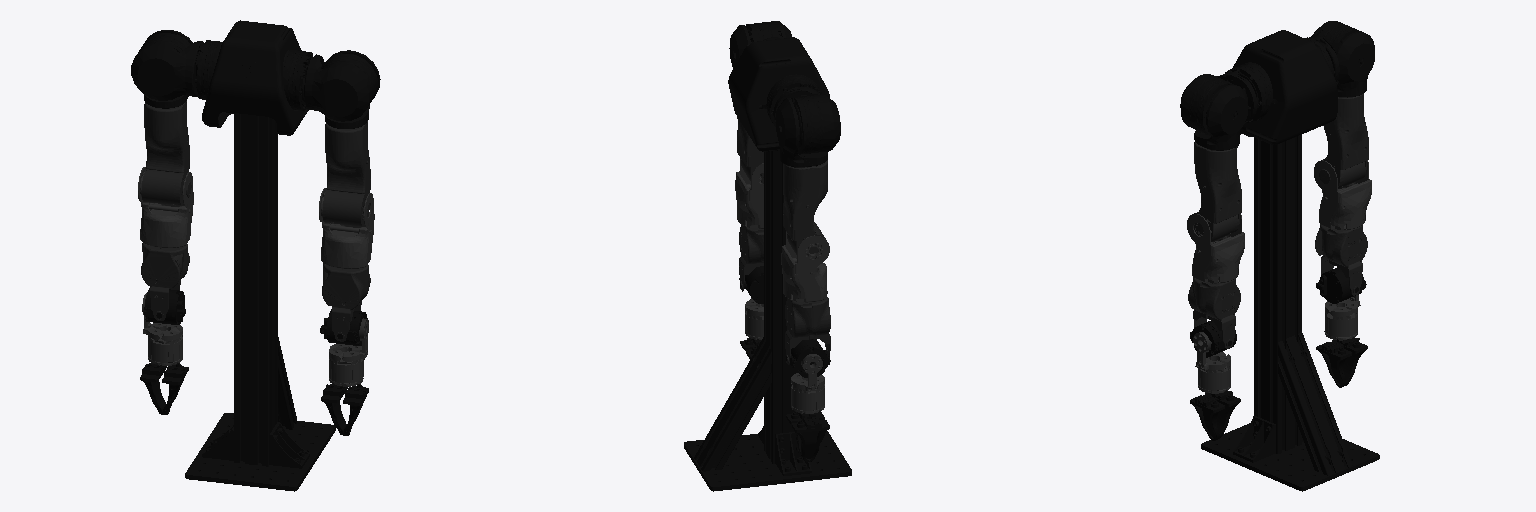
--- What the picture shows (computed from the rendered views, not written in the file) ---
Views: 3 orthographic renders of the robot side by side, from view 1: azimuth 30°, elevation 25°; view 2: azimuth 150°, elevation 25°; view 3: azimuth 270°, elevation 25°.
Robot: openarm — 28 links, 27 joints (14 revolute, 4 prismatic, 9 fixed); root link world; default pose: every joint at zero.
Visible links, largest first — view 1: openarm_body_link0, openarm_right_link3, openarm_left_link3, openarm_left_link1, openarm_right_link1, openarm_left_link4, openarm_right_link4, openarm_left_link5, openarm_right_link5, openarm_left_link7, openarm_right_link7, openarm_left_link0 (+8 smaller); view 2: openarm_body_link0, openarm_right_link3, openarm_right_link1, openarm_right_link4, openarm_right_link5, openarm_right_link2, openarm_right_link7, openarm_left_link4, openarm_left_link5, openarm_right_left_finger, openarm_left_link3, openarm_right_link0 (+5 smaller); view 3: openarm_body_link0, openarm_left_link3, openarm_right_link3, openarm_left_link4, openarm_right_link4, openarm_left_link2, openarm_left_link5, openarm_right_link5, openarm_left_link1, openarm_right_link2, openarm_left_link7, openarm_right_link7 (+8 smaller).
Boxes of the visible links, left/top/right/bottom form: openarm_body_link0: left=185, top=20, right=335, bottom=491; openarm_right_link3: left=140, top=101, right=191, bottom=205; openarm_left_link3: left=321, top=121, right=370, bottom=226; openarm_left_link1: left=304, top=53, right=377, bottom=121; openarm_right_link1: left=131, top=33, right=203, bottom=100; openarm_left_link4: left=319, top=188, right=374, bottom=269; openarm_right_link4: left=138, top=167, right=193, bottom=248; openarm_left_link5: left=322, top=263, right=370, bottom=341; openarm_right_link5: left=141, top=243, right=189, bottom=320; openarm_left_link7: left=329, top=318, right=368, bottom=386; openarm_right_link7: left=142, top=293, right=182, bottom=365; openarm_left_link0: left=269, top=50, right=312, bottom=117; openarm_body_link0: left=684, top=37, right=851, bottom=491; openarm_right_link3: left=783, top=160, right=827, bottom=254; openarm_right_link1: left=773, top=87, right=840, bottom=154; openarm_right_link4: left=781, top=232, right=829, bottom=302; openarm_right_link5: left=785, top=297, right=830, bottom=364; openarm_right_link2: left=775, top=98, right=827, bottom=166; openarm_right_link7: left=791, top=354, right=824, bottom=413; openarm_left_link4: left=735, top=158, right=763, bottom=228; openarm_left_link5: left=739, top=225, right=763, bottom=291; openarm_right_left_finger: left=792, top=417, right=829, bottom=461; openarm_left_link3: left=737, top=117, right=763, bottom=183; openarm_right_link0: left=763, top=74, right=821, bottom=126; openarm_body_link0: left=1201, top=30, right=1379, bottom=491; openarm_left_link3: left=1194, top=142, right=1241, bottom=241; openarm_right_link3: left=1319, top=94, right=1368, bottom=188; openarm_left_link4: left=1187, top=214, right=1244, bottom=283; openarm_right_link4: left=1314, top=160, right=1371, bottom=229; openarm_left_link2: left=1194, top=85, right=1248, bottom=150; openarm_left_link5: left=1188, top=277, right=1240, bottom=348; openarm_right_link5: left=1315, top=224, right=1367, bottom=295; openarm_left_link1: left=1180, top=72, right=1257, bottom=135; openarm_right_link2: left=1336, top=31, right=1374, bottom=97; openarm_left_link7: left=1193, top=332, right=1230, bottom=393; openarm_right_link7: left=1324, top=295, right=1360, bottom=340.
Size in the robot's own frame: 0.3418 by 0.3422 by 0.7731 metres.
Meshes: 11 distinct files referenced, 21 mesh visuals loaded (10 binary STL); not drawn: 2 (reference not matched to a file when rendering).

The robot description file, URDF, robot "openarm":
<?xml version="1.0" ?>
<!-- =================================================================================== -->
<!-- |    This document was autogenerated by xacro from v10.urdf.xacro                 | -->
<!-- |    EDITING THIS FILE BY HAND IS NOT RECOMMENDED                                 | -->
<!-- =================================================================================== -->
<robot name="openarm">
  <!--
    DEPRECATION NOTICE
    argument arm_type is no longer supported and will be removed in the future.
    This argument is ignored.
  -->
  <!-- Should the robot be spawned in Gazebo with effort interfaces?" -->
  <!-- <xacro:arg name="gazebo_effort" default="false" /> -->
  <!-- ========================================================== -->
  <!-- Adds the required tags to simulate one joint in gazebo     -->
  <!--                                                            -->
  <!-- joint - Name of the openarm joint to simulate                  -->
  <!-- transmission - type of the transmission of the joint       -->
  <!-- ========================================================== -->
  <!-- <xacro:macro name="gazebo-joint" params="joint transmission:=hardware_interface/EffortJointInterface">
    <gazebo reference="${joint}">
      <provideFeedback>true</provideFeedback>
    </gazebo>
    <transmission name="${joint}_transmission">
      <type>transmission_interface/SimpleTransmission</type>
      <joint name="${joint}">
        <hardwareInterface>${transmission}</hardwareInterface>
      </joint>
      <actuator name="${joint}_motor">
        <hardwareInterface>${transmission}</hardwareInterface>
      </actuator>
    </transmission>
  </xacro:macro> -->
  <!-- <xacro:macro name="gazebo-friction" params="link mu">
    <gazebo reference="${link}">
      <collision>
        <max_contacts>10</max_contacts>
        <surface>
          <contact>
            <ode>
              <max_vel>0</max_vel>
              <min_depth>0.001</min_depth>
            </ode>
          </contact>
          <friction>
            <ode>
              <mu>${mu}</mu>
              <mu2>${mu}</mu2>
            </ode>
          </friction>
          <bounce/>
        </surface>
      </collision>
    </gazebo>
  </xacro:macro> -->
  <!-- ========================================================== -->
  <!-- Adds the required tags to simulate one joint in gazebo     -->
  <!--                                                            -->
  <!-- joint - Name of the openarm joint to simulate                  -->
  <!-- transmission - type of the transmission of the joint       -->
  <!-- ========================================================== -->
  <!-- <xacro:macro name="gazebo-joint" params="joint transmission:=hardware_interface/EffortJointInterface">
    <gazebo reference="${joint}">
      <provideFeedback>true</provideFeedback>
    </gazebo>
    <transmission name="${joint}_transmission">
      <type>transmission_interface/SimpleTransmission</type>
      <joint name="${joint}">
        <hardwareInterface>${transmission}</hardwareInterface>
      </joint>
      <actuator name="${joint}_motor">
        <hardwareInterface>${transmission}</hardwareInterface>
      </actuator>
    </transmission>
  </xacro:macro> -->
  <!-- <xacro:macro name="gazebo-friction" params="link mu">
    <gazebo reference="${link}">
      <collision>
        <max_contacts>10</max_contacts>
        <surface>
          <contact>
            <ode>
              <max_vel>0</max_vel>
              <min_depth>0.001</min_depth>
            </ode>
          </contact>
          <friction>
            <ode>
              <mu>${mu}</mu>
              <mu2>${mu}</mu2>
            </ode>
          </friction>
          <bounce/>
        </surface>
      </collision>
    </gazebo>
  </xacro:macro> -->
  <!-- arm_type: Namespace of the robot arm. Serves to differentiate between arms in case of multiple instances. -->
  <!-- joint_limits: description of the joint limits that comes from a YAML file. Example definition: ${xacro.load_yaml('$(find openarm_description)/robots/fr3/joint_limits.yaml')} -->
  <!-- kinematics: description of the kinematics that comes from a YAML file. Example definition: ${xacro.load_yaml('$(find openarm_description)/robots/fr3/kinematics.yaml')} -->
  <!-- inertials: description of the inertials that comes from a YAML file. Example definition: ${xacro.load_yaml('$(find openarm_description)/robots/fr3/inertials.yaml')} -->
  <!-- Is the robot being simulated in gazebo? -->
  <!-- <xacro:arg name="gazebo" default="false" /> -->
  <material name="light_gray">
    <color rgba="0.4 0.4 0.4 1.0"/>
  </material>
  <material name="gray">
    <color rgba="0.2117647058823529 0.2117647058823529 0.2117647058823529 1.0"/>
  </material>
  <material name="dark_gray">
    <color rgba="0.1607843137254902 0.1607843137254902 0.1607843137254902 1.0"/>
  </material>
  <material name="light_black">
    <color rgba="0.08 0.08 0.08 1.0"/>
  </material>
  <material name="black">
    <color rgba="0.0 0.0 0.0 1.0"/>
  </material>
  <link name="world"/>
  <joint name="openarm_body_world_joint" type="fixed">
    <parent link="world"/>
    <child link="openarm_body_link0"/>
    <origin rpy="0 0 -2.36" xyz="0 0 0"/>
  </joint>
  <link name="openarm_body_link0">
    <visual name="openarm_body_link0_visual">
      <origin rpy="0.0 0.0 0.0" xyz="0.0 0.0 0.0"/>
      <geometry>
        <mesh filename="./meshes/body/v10/visual/body_link0.stl" scale="0.001 0.001 0.001"/>
      </geometry>
      <material name="light_black"/>
    </visual>
    <collision name="openarm_body_link0_collision">
      <origin rpy="0.0 0.0 0.0" xyz="0.0 0.0 0.0"/>
      <geometry>
      </geometry>
    </collision>
    <inertial>
      <origin rpy="0.0 0.0 0.0" xyz="0.0 0.0 0.0"/>
      <mass value="13.89"/>
      <inertia ixx="1.653" ixy="0.0" ixz="0.0" iyy="1.653" iyz="0.0" izz="0.051"/>
    </inertial>
  </link>
  <!-- Define a property that defaults to 'arm_prefix_arm_type' concatenated with an underscore if 'no_prefix' is not set -->
  <!-- <xacro:if value="${gazebo}">
      <xacro:property name="connected_to" value="" />
    </xacro:if> -->
  <!-- <link name="${connected_to}">
      </link> -->
  <joint name="openarm_left_openarm_body_link0_joint" type="fixed">
    <parent link="openarm_body_link0"/>
    <child link="openarm_left_link0"/>
    <origin rpy="-1.5708 0 0" xyz="0.0 0.031 0.698"/>
  </joint>
  <link name="openarm_left_link0">
    <visual name="openarm_left_link0_visual">
      <origin rpy="0.0 0.0 0.0" xyz="0.0 0.0 0.0"/>
      <geometry>
        <mesh filename="./meshes/arm/v10/visual/link0.stl" scale="0.001 -0.001 0.001"/>
      </geometry>
      <material name="light_black"/>
    </visual>
    <collision name="openarm_left_link0_collision">
      <origin rpy="0.0 0.0 0.0" xyz="0.0 0.0 0.0"/>
      <geometry>
        

      </geometry>
    </collision>
    <inertial>
      <origin rpy="0.0 0.0 0.0" xyz="-0.0009483362816297526 0.0001580207020448382 0.03076860287587199"/>
      <mass value="1.1432284943239561"/>
      <inertia ixx="0.001128" ixy="-4e-06" ixz="-3.3e-05" iyy="0.000962" iyz="-7e-06" izz="0.00147"/>
    </inertial>
  </link>
  <link name="openarm_left_link1">
    <visual name="openarm_left_link1_visual">
      <origin rpy="0.0 0.0 0.0" xyz="-0.0 0.0 -0.0625"/>
      <geometry>
        <mesh filename="./meshes/arm/v10/visual/link1.stl" scale="0.001 -0.001 0.001"/>
      </geometry>
      <material name="light_black"/>
    </visual>
    <collision name="openarm_left_link1_collision">
      <origin rpy="0.0 0.0 0.0" xyz="-0.0 0.0 -0.0625"/>
      <geometry>
        
        
      </geometry>
    </collision>
    <inertial>
      <origin rpy="0.0 0.0 0.0" xyz="0.0011467657911800769 3.319987657026362e-05 0.05395284380736254"/>
      <mass value="1.1416684646202298"/>
      <inertia ixx="0.001567" ixy="-1e-06" ixz="-2.9e-05" iyy="0.001273" iyz="-0.0" izz="0.001016"/>
    </inertial>
  </link>
  <joint name="L_J1" type="revolute">
    <origin rpy="0 0 0" xyz="0.0 0.0 0.0625"/>
    <parent link="openarm_left_link0"/>
    <child link="openarm_left_link1"/>
    <axis xyz="0 0 1"/>
    <limit effort="54" lower="-3.490659" upper="1.3962629999999998" velocity="45"/>
  </joint>
  <link name="openarm_left_link2">
    <visual name="openarm_left_link2_visual">
      <origin rpy="0.0 0.0 0.0" xyz="0.0301 0.0 -0.1225"/>
      <geometry>
        <mesh filename="./meshes/arm/v10/visual/link2.stl" scale="0.001 -0.001 0.001"/>
      </geometry>
      <material name="light_black"/>
    </visual>
    <collision name="openarm_left_link2_collision">
      <origin rpy="0.0 0.0 0.0" xyz="0.0301 0.0 -0.1225"/>
      <geometry>
        
        
      </geometry>
    </collision>
    <inertial>
      <origin rpy="0.0 0.0 0.0" xyz="0.00839629182351943 -2.0145102027597523e-08 0.03256649300522363"/>
      <mass value="0.2775092746011571"/>
      <inertia ixx="0.000359" ixy="-0.0" ixz="-0.000109" iyy="0.000376" iyz="0.0" izz="0.000232"/>
    </inertial>
  </link>
  <joint name="L_J2" type="revolute">
    <origin rpy="-1.57079632679 0 0" xyz="-0.0301 0.0 0.06"/>
    <parent link="openarm_left_link1"/>
    <child link="openarm_left_link2"/>
    <axis xyz="-1 0 0"/>
    <limit effort="54" lower="-3.3161253267948965" upper="0.17453267320510335" velocity="45"/>
  </joint>
  <link name="openarm_left_link3">
    <visual name="openarm_left_link3_visual">
      <origin rpy="0.0 0.0 0.0" xyz="-0.0 -0.0 -0.18875"/>
      <geometry>
        <mesh filename="./meshes/arm/v10/visual/link3.stl" scale="0.001 -0.001 0.001"/>
      </geometry>
      <material name="dark_gray"/>
    </visual>
    <collision name="openarm_left_link3_collision">
      <origin rpy="0.0 0.0 0.0" xyz="-0.0 -0.0 -0.18875"/>
      <geometry>
        
        
      </geometry>
    </collision>
    <inertial>
      <origin rpy="0.0 0.0 0.0" xyz="-0.002104752099628911 0.0005549085042607548 0.08847470545721961"/>
      <mass value="1.073863338202347"/>
      <inertia ixx="0.004372" ixy="-0.0" ixz="1.1e-05" iyy="0.004319" iyz="-3.6e-05" izz="0.000661"/>
    </inertial>
  </link>
  <joint name="L_J3" type="revolute">
    <origin rpy="0 0 0" xyz="0.0301 0.0 0.06625"/>
    <parent link="openarm_left_link2"/>
    <child link="openarm_left_link3"/>
    <axis xyz="0 0 1"/>
    <limit effort="28" lower="-1.570796" upper="1.570796" velocity="8"/>
  </joint>
  <link name="openarm_left_link4">
    <visual name="openarm_left_link4_visual">
      <origin rpy="0.0 0.0 0.0" xyz="0.0 -0.0315 -0.3425"/>
      <geometry>
        <mesh filename="./meshes/arm/v10/visual/link4.stl" scale="0.001 0.001 0.001"/>
      </geometry>
      <material name="gray"/>
    </visual>
    <collision name="openarm_left_link4_collision">
      <origin rpy="0.0 0.0 0.0" xyz="0.0 -0.0315 -0.3425"/>
      <geometry>
        
        
      </geometry>
    </collision>
    <inertial>
      <origin rpy="0.0 0.0 0.0" xyz="-0.0029006831074562967 -0.03030575826634669 0.06339637422196209"/>
      <mass value="1.3699337287025453"/>
      <inertia ixx="0.001577" ixy="-5e-06" ixz="-7.5e-05" iyy="0.001346" iyz="0.000108" izz="0.001104"/>
    </inertial>
  </link>
  <joint name="L_J4" type="revolute">
    <origin rpy="0 0 0" xyz="-0.0 0.0315 0.15375"/>
    <parent link="openarm_left_link3"/>
    <child link="openarm_left_link4"/>
    <axis xyz="0 1 0"/>
    <limit effort="28" lower="0.0" upper="2.443461" velocity="8"/>
  </joint>
  <link name="openarm_left_link5">
    <visual name="openarm_left_link5_visual">
      <origin rpy="0.0 0.0 0.0" xyz="-0.0 -0.0 -0.438"/>
      <geometry>
        <mesh filename="./meshes/arm/v10/visual/link5.stl" scale="0.001 -0.001 0.001"/>
      </geometry>
      <material name="dark_gray"/>
    </visual>
    <collision name="openarm_left_link5_collision">
      <origin rpy="0.0 0.0 0.0" xyz="-0.0 -0.0 -0.438"/>
      <geometry>
        
        
      </geometry>
    </collision>
    <inertial>
      <origin rpy="0.0 0.0 0.0" xyz="-0.003049665024221911 0.0008866902457326625 0.043079803024980934"/>
      <mass value="0.5506588026168502"/>
      <inertia ixx="0.000423" ixy="-8e-06" ixz="6e-06" iyy="0.000445" iyz="-6e-06" izz="0.000324"/>
    </inertial>
  </link>
  <joint name="L_J5" type="revolute">
    <origin rpy="0 0 0" xyz="0.0 -0.0315 0.0955"/>
    <parent link="openarm_left_link4"/>
    <child link="openarm_left_link5"/>
    <axis xyz="0 0 1"/>
    <limit effort="10" lower="-1.570796" upper="1.570796" velocity="30"/>
  </joint>
  <link name="openarm_left_link6">
    <visual name="openarm_left_link6_visual">
      <origin rpy="0.0 0.0 0.0" xyz="-0.0375 -0.0 -0.5585"/>
      <geometry>
        <mesh filename="./meshes/arm/v10/visual/link6.stl" scale="0.001 -0.001 0.001"/>
      </geometry>
      <material name="light_black"/>
    </visual>
    <collision name="openarm_left_link6_collision">
      <origin rpy="0.0 0.0 0.0" xyz="-0.0375 -0.0 -0.5585"/>
      <geometry>
        
        
      </geometry>
    </collision>
    <inertial>
      <origin rpy="0.0 0.0 0.0" xyz="-0.037136587005447405 0.00033230528343419053 -9.498374522309838e-05"/>
      <mass value="0.3540202773187987"/>
      <inertia ixx="0.000143" ixy="4e-06" ixz="0.0" iyy="0.000157" iyz="1e-06" izz="0.000159"/>
    </inertial>
  </link>
  <joint name="L_J6" type="revolute">
    <origin rpy="0 0 0" xyz="0.0375 0.0 0.1205"/>
    <parent link="openarm_left_link5"/>
    <child link="openarm_left_link6"/>
    <axis xyz="1 0 0"/>
    <limit effort="10" lower="-0.785398" upper="0.785398" velocity="30"/>
  </joint>
  <link name="openarm_left_link7">
    <visual name="openarm_left_link7_visual">
      <origin rpy="0.0 0.0 0.0" xyz="0.0 -0.0 -0.5585"/>
      <geometry>
        <mesh filename="./meshes/arm/v10/visual/link7.stl" scale="0.001 -0.001 0.001"/>
      </geometry>
      <material name="gray"/>
    </visual>
    <collision name="openarm_left_link7_collision">
      <origin rpy="0.0 0.0 0.0" xyz="0.0 -0.0 -0.5585"/>
      <geometry>
        
        
      </geometry>
    </collision>
    <inertial>
      <origin rpy="0.0 0.0 0.0" xyz="6.875510271106056e-05 -0.01766175250761268 0.06651945409987448"/>
      <mass value="0.5499771327380578"/>
      <inertia ixx="0.000639" ixy="0.0" ixz="-0.0" iyy="0.000497" iyz="8.9e-05" izz="0.000342"/>
    </inertial>
  </link>
  <joint name="L_J7" type="revolute">
    <origin rpy="0 0 0" xyz="-0.0375 0.0 0.0"/>
    <parent link="openarm_left_link6"/>
    <child link="openarm_left_link7"/>
    <axis xyz="0 -1 0"/>
    <limit effort="10" lower="-1.570796" upper="1.570796" velocity="30"/>
  </joint>
  <link name="openarm_left_link8"/>
  <joint name="L_J8" type="fixed">
    <origin rpy="0 0 0" xyz="1e-06 0.0205 0.0"/>
    <parent link="openarm_left_link7"/>
    <child link="openarm_left_link8"/>
  </joint>
  <!-- Define a property that defaults to 'arm_prefix_arm_type' concatenated with an underscore if 'no_prefix' is not set -->
  <!-- <xacro:if value="${gazebo}">
      <xacro:property name="connected_to" value="" />
    </xacro:if> -->
  <!-- <link name="${connected_to}">
      </link> -->
  <joint name="openarm_right_openarm_body_link0_joint" type="fixed">
    <parent link="openarm_body_link0"/>
    <child link="openarm_right_link0"/>
    <origin rpy="1.5708 0 0" xyz="0.0 -0.031 0.698"/>
  </joint>
  <link name="openarm_right_link0">
    <visual name="openarm_right_link0_visual">
      <origin rpy="0.0 0.0 0.0" xyz="0.0 0.0 0.0"/>
      <geometry>
        <mesh filename="./meshes/arm/v10/visual/link0.stl" scale="0.001 0.001 0.001"/>
      </geometry>
      <material name="light_black"/>
    </visual>
    <collision name="openarm_right_link0_collision">
      <origin rpy="0.0 0.0 0.0" xyz="0.0 0.0 0.0"/>
      <geometry>
        
        
      </geometry>
    </collision>
    <inertial>
      <origin rpy="0.0 0.0 0.0" xyz="-0.0009483362816297526 0.0001580207020448382 0.03076860287587199"/>
      <mass value="1.1432284943239561"/>
      <inertia ixx="0.001128" ixy="-4e-06" ixz="-3.3e-05" iyy="0.000962" iyz="-7e-06" izz="0.00147"/>
    </inertial>
  </link>
  <link name="openarm_right_link1">
    <visual name="openarm_right_link1_visual">
      <origin rpy="0.0 0.0 0.0" xyz="-0.0 0.0 -0.0625"/>
      <geometry>
        <mesh filename="./meshes/arm/v10/visual/link1.stl" scale="0.001 0.001 0.001"/>
      </geometry>
      <material name="light_black"/>
    </visual>
    <collision name="openarm_right_link1_collision">
      <origin rpy="0.0 0.0 0.0" xyz="-0.0 0.0 -0.0625"/>
      <geometry>
        
        
      </geometry>
    </collision>
    <inertial>
      <origin rpy="0.0 0.0 0.0" xyz="0.0011467657911800769 3.319987657026362e-05 0.05395284380736254"/>
      <mass value="1.1416684646202298"/>
      <inertia ixx="0.001567" ixy="-1e-06" ixz="-2.9e-05" iyy="0.001273" iyz="-0.0" izz="0.001016"/>
    </inertial>
  </link>
  <joint name="R_J1" type="revolute">
    <origin rpy="0 0 0" xyz="0.0 0.0 0.0625"/>
    <parent link="openarm_right_link0"/>
    <child link="openarm_right_link1"/>
    <axis xyz="0 0 1"/>
    <limit effort="54" lower="-1.396263" upper="3.490659" velocity="45"/>
  </joint>
  <link name="openarm_right_link2">
    <visual name="openarm_right_link2_visual">
      <origin rpy="0.0 0.0 0.0" xyz="0.0301 0.0 -0.1225"/>
      <geometry>
        <mesh filename="./meshes/arm/v10/visual/link2.stl" scale="0.001 0.001 0.001"/>
      </geometry>
      <material name="light_black"/>
    </visual>
    <collision name="openarm_right_link2_collision">
      <origin rpy="0.0 0.0 0.0" xyz="0.0301 0.0 -0.1225"/>
      <geometry>
        
        
      </geometry>
    </collision>
    <inertial>
      <origin rpy="0.0 0.0 0.0" xyz="0.00839629182351943 -2.0145102027597523e-08 0.03256649300522363"/>
      <mass value="0.2775092746011571"/>
      <inertia ixx="0.000359" ixy="-0.0" ixz="-0.000109" iyy="0.000376" iyz="0.0" izz="0.000232"/>
    </inertial>
  </link>
  <joint name="R_J2" type="revolute">
    <origin rpy="1.57079632679 0 0" xyz="-0.0301 0.0 0.06"/>
    <parent link="openarm_right_link1"/>
    <child link="openarm_right_link2"/>
    <axis xyz="-1 0 0"/>
    <limit effort="54" lower="-0.17453267320510335" upper="3.3161253267948965" velocity="45"/>
  </joint>
  <link name="openarm_right_link3">
    <visual name="openarm_right_link3_visual">
      <origin rpy="0.0 0.0 0.0" xyz="-0.0 -0.0 -0.18875"/>
      <geometry>
        <mesh filename="./meshes/arm/v10/visual/link3.stl" scale="0.001 0.001 0.001"/>
      </geometry>
      <material name="dark_gray"/>
    </visual>
    <collision name="openarm_right_link3_collision">
      <origin rpy="0.0 0.0 0.0" xyz="-0.0 -0.0 -0.18875"/>
      <geometry>
        
        
      </geometry>
    </collision>
    <inertial>
      <origin rpy="0.0 0.0 0.0" xyz="-0.002104752099628911 0.0005549085042607548 0.08847470545721961"/>
      <mass value="1.073863338202347"/>
      <inertia ixx="0.004372" ixy="-0.0" ixz="1.1e-05" iyy="0.004319" iyz="-3.6e-05" izz="0.000661"/>
    </inertial>
  </link>
  <joint name="R_J3" type="revolute">
    <origin rpy="0 0 0" xyz="0.0301 0.0 0.06625"/>
    <parent link="openarm_right_link2"/>
    <child link="openarm_right_link3"/>
    <axis xyz="0 0 1"/>
    <limit effort="28" lower="-1.570796" upper="1.570796" velocity="8"/>
  </joint>
  <link name="openarm_right_link4">
    <visual name="openarm_right_link4_visual">
      <origin rpy="0.0 0.0 0.0" xyz="0.0 -0.0315 -0.3425"/>
      <geometry>
        <mesh filename="./meshes/arm/v10/visual/link4.stl" scale="0.001 0.001 0.001"/>
      </geometry>
      <material name="gray"/>
    </visual>
    <collision name="openarm_right_link4_collision">
      <origin rpy="0.0 0.0 0.0" xyz="0.0 -0.0315 -0.3425"/>
      <geometry>
        
        
      </geometry>
    </collision>
    <inertial>
      <origin rpy="0.0 0.0 0.0" xyz="-0.0029006831074562967 -0.03030575826634669 0.06339637422196209"/>
      <mass value="1.3699337287025453"/>
      <inertia ixx="0.001577" ixy="-5e-06" ixz="-7.5e-05" iyy="0.001346" iyz="0.000108" izz="0.001104"/>
    </inertial>
  </link>
  <joint name="R_J4" type="revolute">
    <origin rpy="0 0 0" xyz="-0.0 0.0315 0.15375"/>
    <parent link="openarm_right_link3"/>
    <child link="openarm_right_link4"/>
    <axis xyz="0 1 0"/>
    <limit effort="28" lower="0.0" upper="2.443461" velocity="8"/>
  </joint>
  <link name="openarm_right_link5">
    <visual name="openarm_right_link5_visual">
      <origin rpy="0.0 0.0 0.0" xyz="-0.0 -0.0 -0.438"/>
      <geometry>
        <mesh filename="./meshes/arm/v10/visual/link5.stl" scale="0.001 0.001 0.001"/>
      </geometry>
      <material name="dark_gray"/>
    </visual>
    <collision name="openarm_right_link5_collision">
      <origin rpy="0.0 0.0 0.0" xyz="-0.0 -0.0 -0.438"/>
      <geometry>
        
        
      </geometry>
    </collision>
    <inertial>
      <origin rpy="0.0 0.0 0.0" xyz="-0.003049665024221911 0.0008866902457326625 0.043079803024980934"/>
      <mass value="0.5506588026168502"/>
      <inertia ixx="0.000423" ixy="-8e-06" ixz="6e-06" iyy="0.000445" iyz="-6e-06" izz="0.000324"/>
    </inertial>
  </link>
  <joint name="R_J5" type="revolute">
    <origin rpy="0 0 0" xyz="0.0 -0.0315 0.0955"/>
    <parent link="openarm_right_link4"/>
    <child link="openarm_right_link5"/>
    <axis xyz="0 0 1"/>
    <limit effort="10" lower="-1.570796" upper="1.570796" velocity="30"/>
  </joint>
  <link name="openarm_right_link6">
    <visual name="openarm_right_link6_visual">
      <origin rpy="0.0 0.0 0.0" xyz="-0.0375 -0.0 -0.5585"/>
      <geometry>
        <mesh filename="./meshes/arm/v10/visual/link6.stl" scale="0.001 0.001 0.001"/>
      </geometry>
      <material name="light_black"/>
    </visual>
    <collision name="openarm_right_link6_collision">
      <origin rpy="0.0 0.0 0.0" xyz="-0.0375 -0.0 -0.5585"/>
      <geometry>
        
        
      </geometry>
    </collision>
    <inertial>
      <origin rpy="0.0 0.0 0.0" xyz="-0.037136587005447405 0.00033230528343419053 -9.498374522309838e-05"/>
      <mass value="0.3540202773187987"/>
      <inertia ixx="0.000143" ixy="4e-06" ixz="0.0" iyy="0.000157" iyz="1e-06" izz="0.000159"/>
    </inertial>
  </link>
  <joint name="R_J6" type="revolute">
    <origin rpy="0 0 0" xyz="0.0375 0.0 0.1205"/>
    <parent link="openarm_right_link5"/>
    <child link="openarm_right_link6"/>
    <axis xyz="1 0 0"/>
    <limit effort="10" lower="-0.785398" upper="0.785398" velocity="30"/>
  </joint>
  <link name="openarm_right_link7">
    <visual name="openarm_right_link7_visual">
      <origin rpy="0.0 0.0 0.0" xyz="0.0 -0.0 -0.5585"/>
      <geometry>
        <mesh filename="./meshes/arm/v10/visual/link7.stl" scale="0.001 0.001 0.001"/>
      </geometry>
      <material name="gray"/>
    </visual>
    <collision name="openarm_right_link7_collision">
      <origin rpy="0.0 0.0 0.0" xyz="0.0 -0.0 -0.5585"/>
      <geometry>
        
        
      </geometry>
    </collision>
    <inertial>
      <origin rpy="0.0 0.0 0.0" xyz="6.875510271106056e-05 -0.01766175250761268 0.06651945409987448"/>
      <mass value="0.5499771327380578"/>
      <inertia ixx="0.000639" ixy="0.0" ixz="-0.0" iyy="0.000497" iyz="8.9e-05" izz="0.000342"/>
    </inertial>
  </link>
  <joint name="R_J7" type="revolute">
    <origin rpy="0 0 0" xyz="-0.0375 0.0 0.0"/>
    <parent link="openarm_right_link6"/>
    <child link="openarm_right_link7"/>
    <axis xyz="0 1 0"/>
    <limit effort="10" lower="-1.570796" upper="1.570796" velocity="30"/>
  </joint>
  <link name="openarm_right_link8"/>
  <joint name="R_J8" type="fixed">
    <origin rpy="0 0 0" xyz="1e-06 0.0205 0.0"/>
    <parent link="openarm_right_link7"/>
    <child link="openarm_right_link8"/>
  </joint>
  <link name="openarm_left_hand">
    <visual name="openarm_left_hand_visual">
      <origin rpy="0.0 0.0 0.0" xyz="0.0 0.005 -0.6585"/>
      <geometry>
        <mesh filename="./meshes/ee/openarm_hand/visual/hand.stl" scale="0.001 0.001 0.001"/>
      </geometry>
      <material name="light_gray"/>
    </visual>
    <collision name="openarm_left_hand_collision">
      <origin rpy="0.0 0.0 0.0" xyz="0.0 0.005 -0.6585"/>
      <geometry>
        
      </geometry>
    </collision>
    <inertial>
      <origin rpy="0 0 0" xyz="0.0 0.002 0.01"/>
      <mass value="0.15"/>
      <inertia ixx="0.0001" ixy="0" ixz="0" iyy="0.00025" iyz="0" izz="0.00017"/>
    </inertial>
  </link>
  <!-- <link name="${ee_prefix}hand"/> -->
  <!-- <joint name="${ee_prefix}hand_joint" type="fixed"> -->
  <joint name="left_openarm_hand_joint" type="fixed">
    <parent link="openarm_left_link8"/>
    <child link="openarm_left_hand"/>
    <origin rpy="0 0 0" xyz="0 -0.025 0.1001"/>
  </joint>
  <!-- Define the hand_tcp frame -->
  <link name="openarm_left_hand_tcp"/>
  <joint name="openarm_left_hand_tcp_joint" type="fixed">
    <origin rpy="0 0 0" xyz="0 -0.0 0.08"/>
    <parent link="openarm_left_hand"/>
    <child link="openarm_left_hand_tcp"/>
  </joint>
  <link name="openarm_left_left_finger">
    <visual name="openarm_left_left_finger_visual">
      <origin rpy="0.0 0.0 0.0" xyz="0.0 -0.05 -0.673001"/>
      <geometry>
        <mesh filename="./meshes/ee/openarm_hand/visual/finger.stl" scale="0.001 0.001 0.001"/>
      </geometry>
      <material name="light_black"/>
    </visual>
    <collision name="openarm_left_left_finger_collision">
      <origin rpy="0.0 0.0 0.0" xyz="0.0 -0.05 -0.673001"/>
      <geometry>
        
      </geometry>
    </collision>
    <inertial>
      <origin rpy="0 0 0" xyz="0.0064528 0.01702 0.0219685"/>
      <mass value="0.03602545343277134"/>
      <inertia ixx="2.3749999999999997e-06" ixy="0" ixz="0" iyy="2.3749999999999997e-06" iyz="0" izz="7.5e-07"/>
    </inertial>
  </link>
  <link name="openarm_left_right_finger">
    <visual name="openarm_left_right_finger_visual">
      <origin rpy="0.0 0.0 0.0" xyz="0.0 0.05 -0.673001"/>
      <geometry>
        <mesh filename="./meshes/ee/openarm_hand/visual/finger.stl" scale="0.001 -0.001 0.001"/>
      </geometry>
      <material name="light_black"/>
    </visual>
    <collision name="openarm_left_right_finger_collision">
      <origin rpy="0.0 0.0 0.0" xyz="0.0 0.05 -0.673001"/>
      <geometry>
        
      </geometry>
    </collision>
    <inertial>
      <origin rpy="0 0 0" xyz="0.0064528 -0.01702 0.0219685"/>
      <mass value="0.03602545343277134"/>
      <inertia ixx="2.3749999999999997e-06" ixy="0" ixz="0" iyy="2.3749999999999997e-06" iyz="0" izz="7.5e-07"/>
    </inertial>
  </link>
  <joint name="L_EE" type="prismatic">
    <parent link="openarm_left_hand"/>
    <child link="openarm_left_right_finger"/>
    <origin rpy="0 0 0" xyz="0 0.00 0.015"/>
    <axis xyz="0 -1 0"/>
    <limit effort="333" lower="0.0" upper="0.044" velocity="10.0"/>
  </joint>
  <joint name="L_EE2" type="prismatic">
    <parent link="openarm_left_hand"/>
    <child link="openarm_left_left_finger"/>
    <origin rpy="0 0 0" xyz="0 0.012 0.015"/>
    <axis xyz="0 1 0"/>
    <limit effort="333" lower="0.0" upper="0.044" velocity="10.0"/>
    <mimic joint="L_EE"/>
  </joint>
  <link name="openarm_right_hand">
    <visual name="openarm_right_hand_visual">
      <origin rpy="0.0 0.0 0.0" xyz="0.0 0.005 -0.6585"/>
      <geometry>
        <mesh filename="./meshes/ee/openarm_hand/visual/hand.stl" scale="0.001 0.001 0.001"/>
      </geometry>
      <material name="light_gray"/>
    </visual>
    <collision name="openarm_right_hand_collision">
      <origin rpy="0.0 0.0 0.0" xyz="0.0 0.005 -0.6585"/>
      <geometry>
        
      </geometry>
    </collision>
    <inertial>
      <origin rpy="0 0 0" xyz="0.0 0.002 0.01"/>
      <mass value="0.15"/>
      <inertia ixx="0.0001" ixy="0" ixz="0" iyy="0.00025" iyz="0" izz="0.00017"/>
    </inertial>
  </link>
  <!-- <link name="${ee_prefix}hand"/> -->
  <!-- <joint name="${ee_prefix}hand_joint" type="fixed"> -->
  <joint name="right_openarm_hand_joint" type="fixed">
    <parent link="openarm_right_link8"/>
    <child link="openarm_right_hand"/>
    <origin rpy="0 0 0" xyz="0 -0.025 0.1001"/>
  </joint>
  <!-- Define the hand_tcp frame -->
  <link name="openarm_right_hand_tcp"/>
  <joint name="openarm_right_hand_tcp_joint" type="fixed">
    <origin rpy="0 0 0" xyz="0 -0.0 0.08"/>
    <parent link="openarm_right_hand"/>
    <child link="openarm_right_hand_tcp"/>
  </joint>
  <link name="openarm_right_left_finger">
    <visual name="openarm_right_left_finger_visual">
      <origin rpy="0.0 0.0 0.0" xyz="0.0 -0.05 -0.673001"/>
      <geometry>
        <mesh filename="./meshes/ee/openarm_hand/visual/finger.stl" scale="0.001 0.001 0.001"/>
      </geometry>
      <material name="light_black"/>
    </visual>
    <collision name="openarm_right_left_finger_collision">
      <origin rpy="0.0 0.0 0.0" xyz="0.0 -0.05 -0.673001"/>
      <geometry>
        
      </geometry>
    </collision>
    <inertial>
      <origin rpy="0 0 0" xyz="0.0064528 0.01702 0.0219685"/>
      <mass value="0.03602545343277134"/>
      <inertia ixx="2.3749999999999997e-06" ixy="0" ixz="0" iyy="2.3749999999999997e-06" iyz="0" izz="7.5e-07"/>
    </inertial>
  </link>
  <link name="openarm_right_right_finger">
    <visual name="openarm_right_right_finger_visual">
      <origin rpy="0.0 0.0 0.0" xyz="0.0 0.05 -0.673001"/>
      <geometry>
        <mesh filename="./meshes/ee/openarm_hand/visual/finger.stl" scale="0.001 -0.001 0.001"/>
      </geometry>
      <material name="light_black"/>
    </visual>
    <collision name="openarm_right_right_finger_collision">
      <origin rpy="0.0 0.0 0.0" xyz="0.0 0.05 -0.673001"/>
      <geometry>
        
      </geometry>
    </collision>
    <inertial>
      <origin rpy="0 0 0" xyz="0.0064528 -0.01702 0.0219685"/>
      <mass value="0.03602545343277134"/>
      <inertia ixx="2.3749999999999997e-06" ixy="0" ixz="0" iyy="2.3749999999999997e-06" iyz="0" izz="7.5e-07"/>
    </inertial>
  </link>
  <joint name="R_EE" type="prismatic">
    <parent link="openarm_right_hand"/>
    <child link="openarm_right_right_finger"/>
    <origin rpy="0 0 0" xyz="0 0.00 0.015"/>
    <axis xyz="0 -1 0"/>
    <limit effort="333" lower="0.0" upper="0.044" velocity="10.0"/>
  </joint>
  <joint name="R_EE2" type="prismatic">
    <parent link="openarm_right_hand"/>
    <child link="openarm_right_left_finger"/>
    <origin rpy="0 0 0" xyz="0 0.012 0.015"/>
    <axis xyz="0 1 0"/>
    <limit effort="333" lower="0.0" upper="0.044" velocity="10.0"/>
    <mimic joint="R_EE"/>
  </joint>
  <!-- <xacro:if value="${gazebo}">
        <xacro:if value="${parent != ''}">
            <xacro:if value="${parent == 'world'}">
            <link name="${parent}" />
            </xacro:if>
            <joint name="${parent}_joint" type="fixed">
            <origin xyz="${xyz}" rpy="${rpy}" />
            <parent link="${parent}" />
            <child  link="${arm_type}_link0" />
            </joint>
        </xacro:if> -->
  <!-- <xacro:gazebo-joint joint="${arm_type}_joint1" transmission="hardware_interface/PositionJointInterface" />
        <xacro:gazebo-joint joint="${arm_type}_joint2" transmission="hardware_interface/PositionJointInterface" />
        <xacro:gazebo-joint joint="${arm_type}_joint3" transmission="hardware_interface/PositionJointInterface" />
        <xacro:gazebo-joint joint="${arm_type}_joint4" transmission="hardware_interface/PositionJointInterface" />
        <xacro:gazebo-joint joint="${arm_type}_joint5" transmission="hardware_interface/PositionJointInterface" />
        <xacro:gazebo-joint joint="${arm_type}_joint6" transmission="hardware_interface/PositionJointInterface" />
        <xacro:gazebo-joint joint="${arm_type}_joint7" transmission="hardware_interface/PositionJointInterface" />

        <xacro:gazebo-joint joint="${arm_type}_joint1" transmission="hardware_interface/VelocityJointInterface" />
        <xacro:gazebo-joint joint="${arm_type}_joint2" transmission="hardware_interface/VelocityJointInterface" />
        <xacro:gazebo-joint joint="${arm_type}_joint3" transmission="hardware_interface/VelocityJointInterface" />
        <xacro:gazebo-joint joint="${arm_type}_joint4" transmission="hardware_interface/VelocityJointInterface" />
        <xacro:gazebo-joint joint="${arm_type}_joint5" transmission="hardware_interface/VelocityJointInterface" />
        <xacro:gazebo-joint joint="${arm_type}_joint6" transmission="hardware_interface/VelocityJointInterface" />
        <xacro:gazebo-joint joint="${arm_type}_joint7" transmission="hardware_interface/VelocityJointInterface" />

        <xacro:gazebo-joint joint="${arm_type}_joint1" transmission="hardware_interface/EffortJointInterface" />
        <xacro:gazebo-joint joint="${arm_type}_joint2" transmission="hardware_interface/EffortJointInterface" />
        <xacro:gazebo-joint joint="${arm_type}_joint3" transmission="hardware_interface/EffortJointInterface" />
        <xacro:gazebo-joint joint="${arm_type}_joint4" transmission="hardware_interface/EffortJointInterface" />
        <xacro:gazebo-joint joint="${arm_type}_joint5" transmission="hardware_interface/EffortJointInterface" />
        <xacro:gazebo-joint joint="${arm_type}_joint6" transmission="hardware_interface/EffortJointInterface" />
        <xacro:gazebo-joint joint="${arm_type}_joint7" transmission="hardware_interface/EffortJointInterface" />  -->
  <!-- <xacro:transmission-openarm-state arm_type="${arm_type}" />
        <xacro:transmission-openarm-model arm_type="${arm_type}"
            root="${arm_type}_joint1"
            tip="${arm_type}_joint8"
        /> -->
  <!-- <xacro:if value="${ee_type == 'openarm_hand'}">
            <xacro:gazebo-joint joint="${arm_type}_finger_joint1" transmission="hardware_interface/EffortJointInterface" />
            <xacro:gazebo-joint joint="${arm_type}_finger_joint2" transmission="hardware_interface/EffortJointInterface" />
            <xacro:gazebo-friction link="${arm_type}_leftfinger" mu="1.13" />
            <xacro:gazebo-friction link="${arm_type}_rightfinger" mu="1.13" />
        </xacro:if>
        </xacro:if> -->
</robot>
